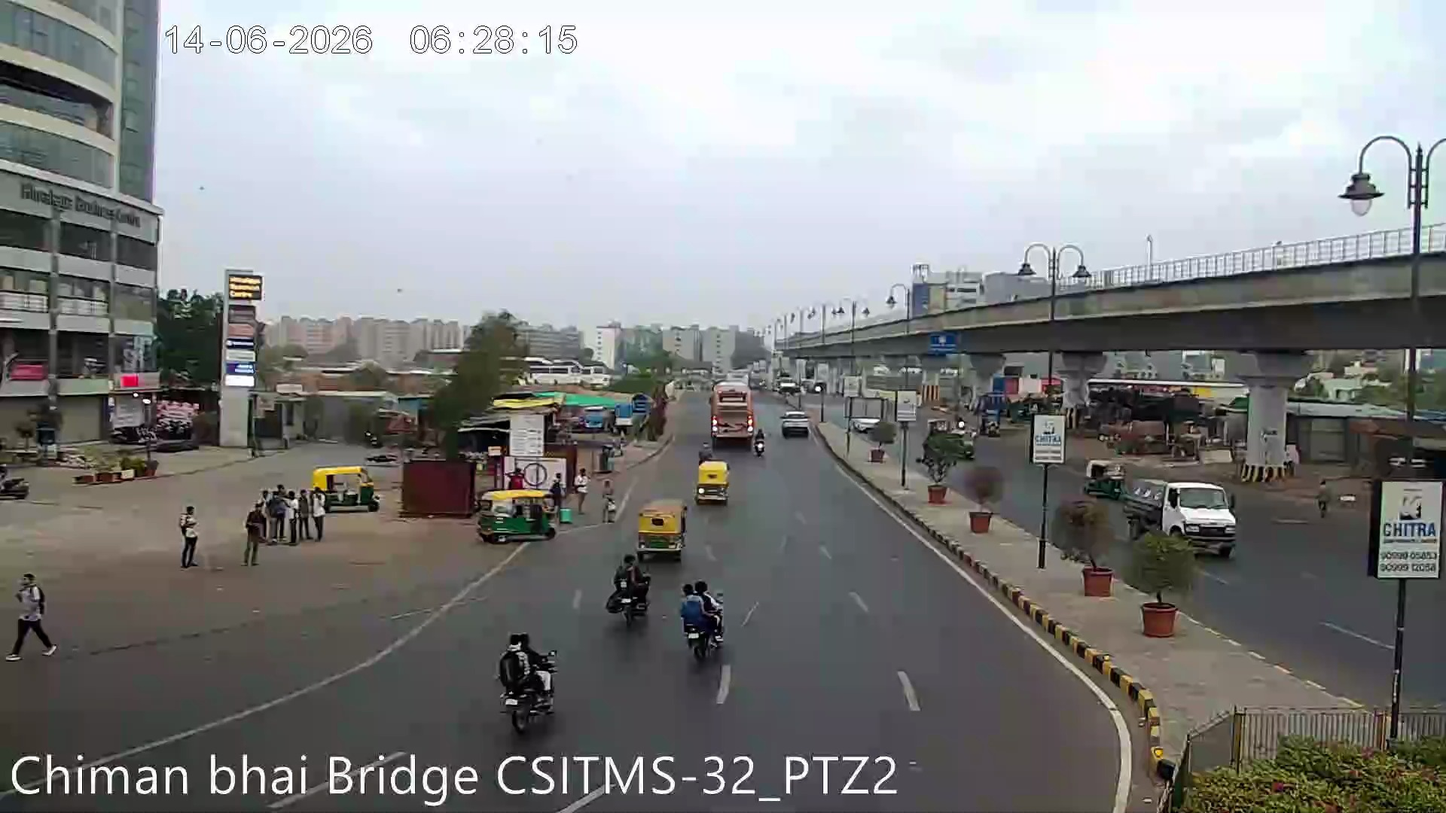auto_rickshaw: (474, 487, 558, 545), (311, 459, 381, 513), (635, 498, 688, 555), (1082, 453, 1128, 499), (695, 456, 731, 503), (780, 404, 812, 438)
bus: (709, 376, 756, 440)
pedestrian: (4, 565, 54, 664), (248, 480, 287, 548), (173, 495, 206, 574), (238, 497, 265, 574), (263, 480, 295, 542), (275, 481, 298, 545), (306, 483, 327, 543), (599, 479, 621, 526), (1313, 476, 1334, 523), (288, 483, 303, 545), (574, 471, 589, 518)
truck: (1123, 473, 1243, 554), (1155, 476, 1240, 554)
two_wheeler: (491, 627, 564, 734), (677, 577, 729, 662), (604, 552, 653, 627), (0, 458, 32, 500)
